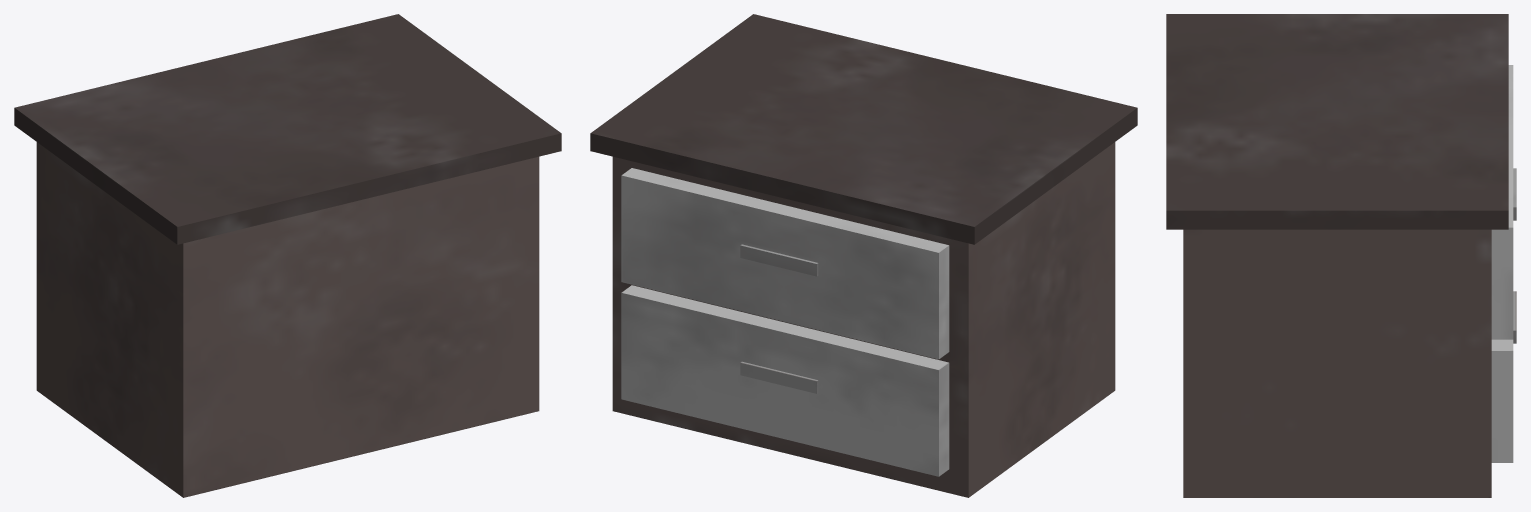
Rendered from balcao2.glb.
3 renders of one model, left to right at view 1: azimuth 30°, elevation 25°; view 2: azimuth 150°, elevation 25°; view 3: azimuth 270°, elevation 25°, orthographic. The views are drawn at different scales.
Parts seen in each view (by area): view 1: Cube.006; view 2: Cube.006; view 3: Cube.006.
Part boxes in pixels (left/top/right/bottom): Cube.006: left=14, top=14, right=561, bottom=497; Cube.006: left=590, top=14, right=1137, bottom=497; Cube.006: left=1166, top=14, right=1516, bottom=497.
Bounding box in the file's own units: 1.51 × 1.05 × 1.14.
1 material, 1 textured.
